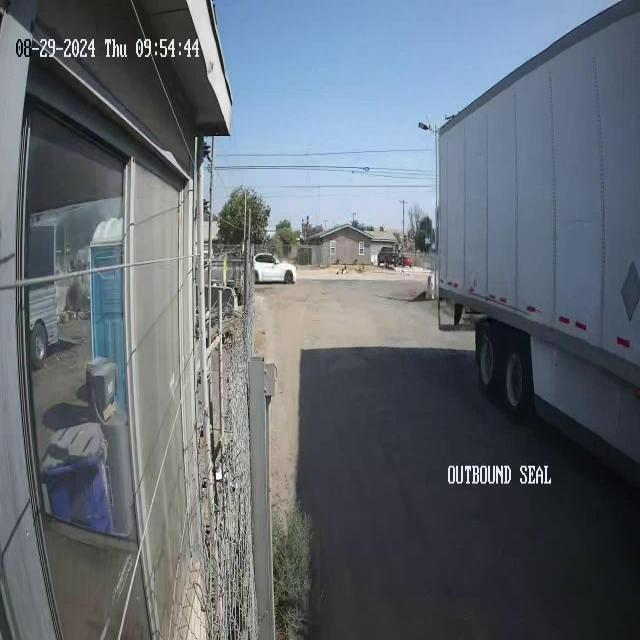TRUCK_IN: (434, 1, 639, 478)
